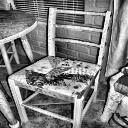chair_success: (4, 2, 113, 127)
